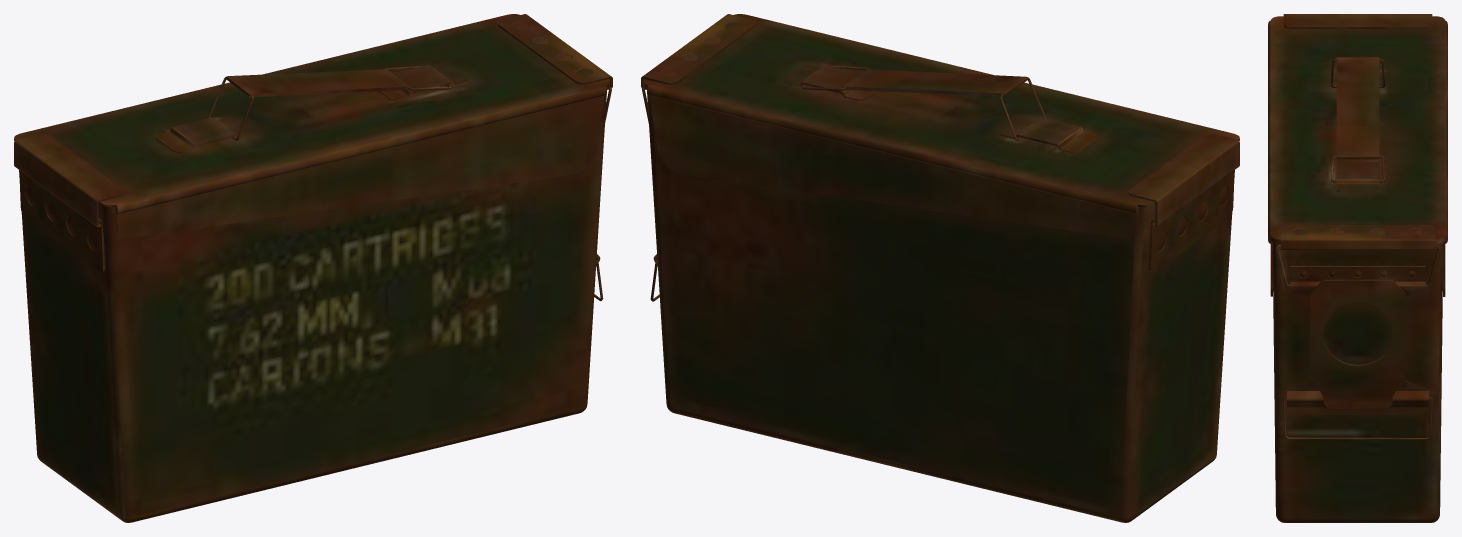
File: ammo_box.glb
The picture shows the model from 3 angles, left to right: view 1: azimuth 30°, elevation 25°; view 2: azimuth 150°, elevation 25°; view 3: azimuth 270°, elevation 25°; orthographic projection. The views are drawn at different scales.
Parts seen in each view (by area): view 1: ammo_box; view 2: ammo_box; view 3: ammo_box.
Part boxes in pixels (left/top/right/bottom): ammo_box: left=14, top=14, right=612, bottom=522; ammo_box: left=641, top=14, right=1239, bottom=522; ammo_box: left=1268, top=14, right=1447, bottom=522.
Bounding box in the file's own units: 0.28 × 0.1927 × 0.094.
Materials: 1 (1 with a texture image).
